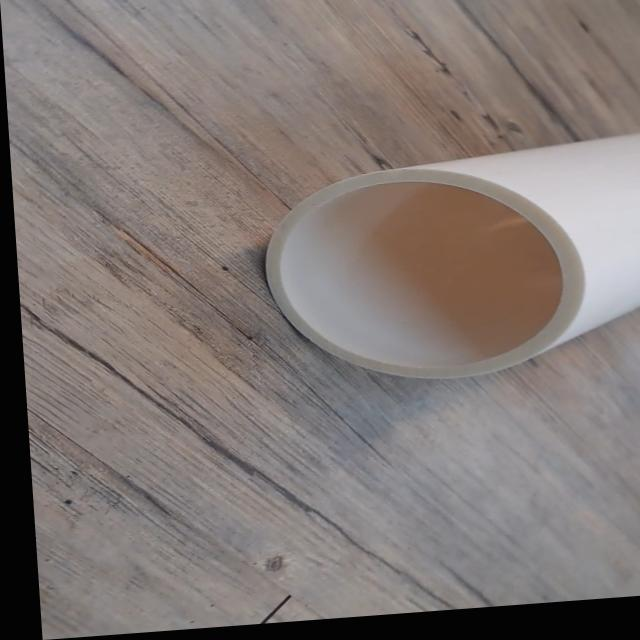CORAL: (242, 121, 640, 401)
